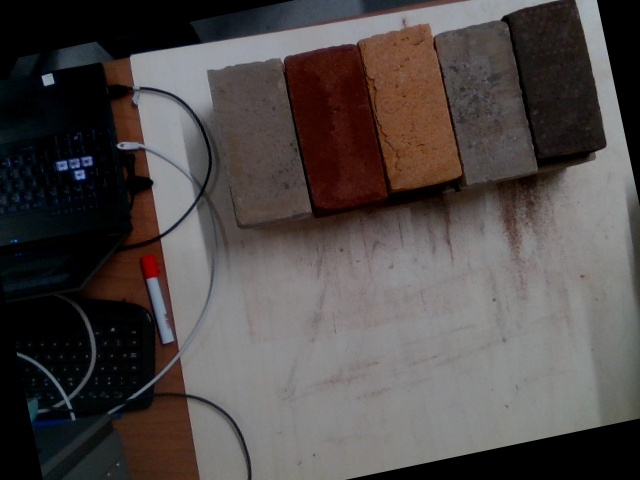brick: (357, 24, 463, 189), (207, 60, 309, 222), (437, 21, 539, 183), (284, 46, 386, 207)
